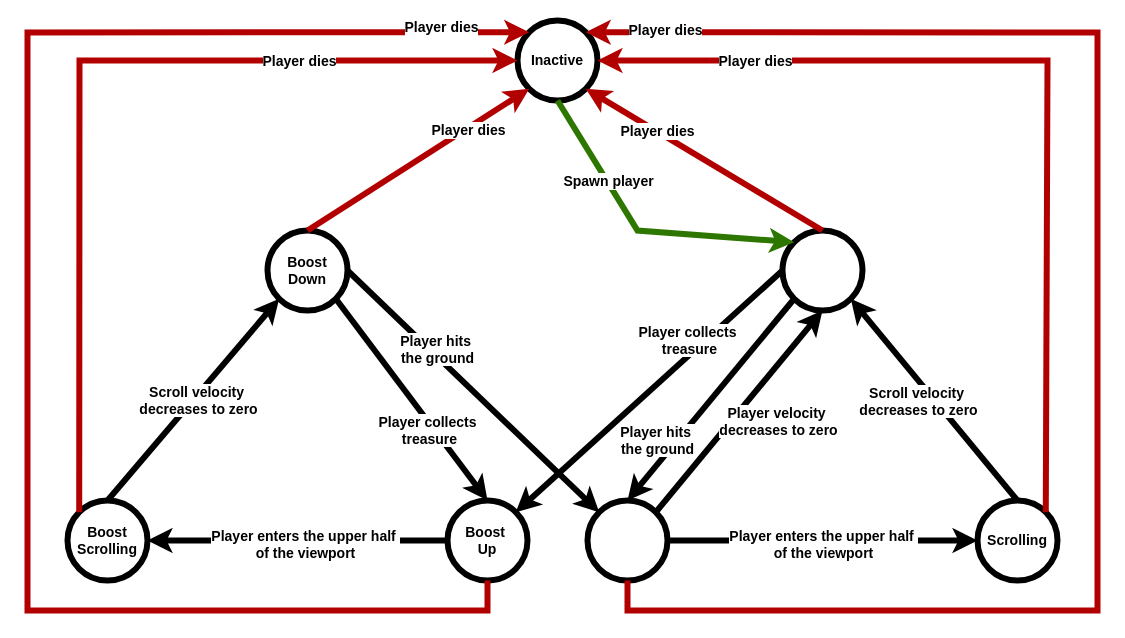
The diagram is 1125 pixels wide and 638 high, and some of its shapes have lost their labels. The centre of each missing label's shape, as x and y in pixels:
Mobile Down: the point at 822,270
Mobile Up: the point at 627,540
